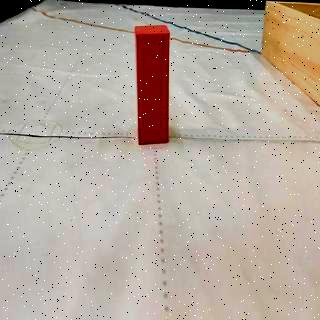redbox: (134, 26, 170, 146)
